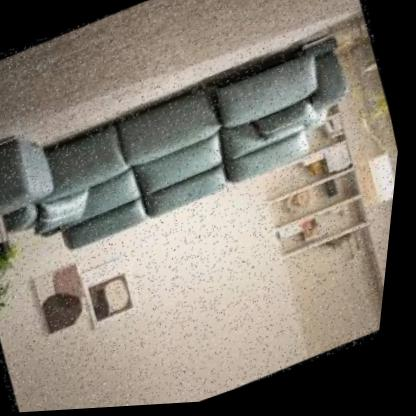Sofa: (0, 0, 396, 303)
